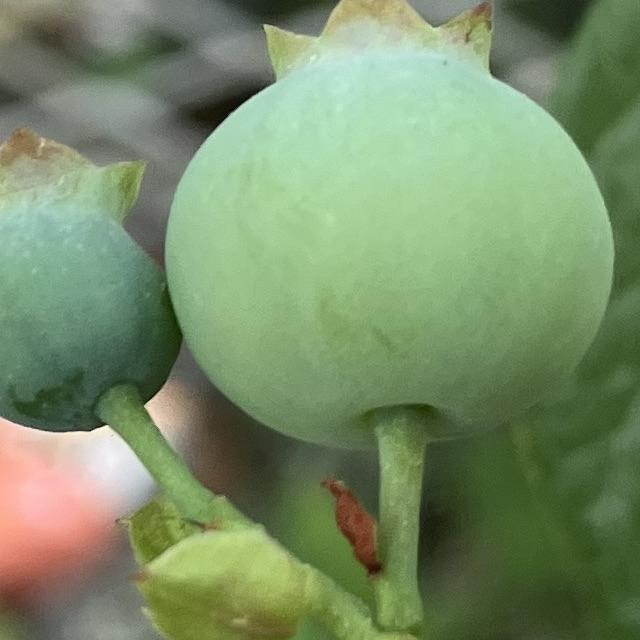Blueberries: (163, 0, 615, 449), (0, 116, 178, 432)
